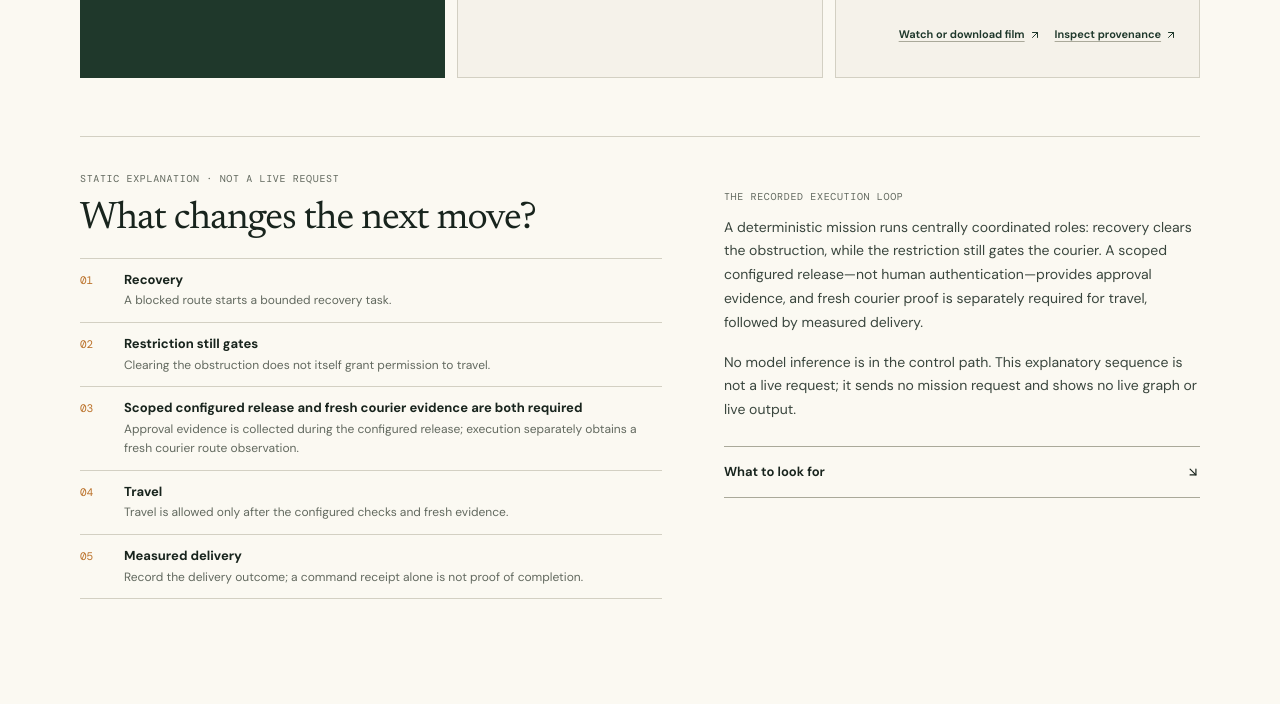
it: JudgeStart proof-first entry point › keeps the inspection walk-through a native disclosure without fetching or mutating
(page scrolled)
Expected: the text "What to look for" is shown, [724,446,1200,498]
Click the heading "What to look for" at (774, 471), box [724,463,1200,480]
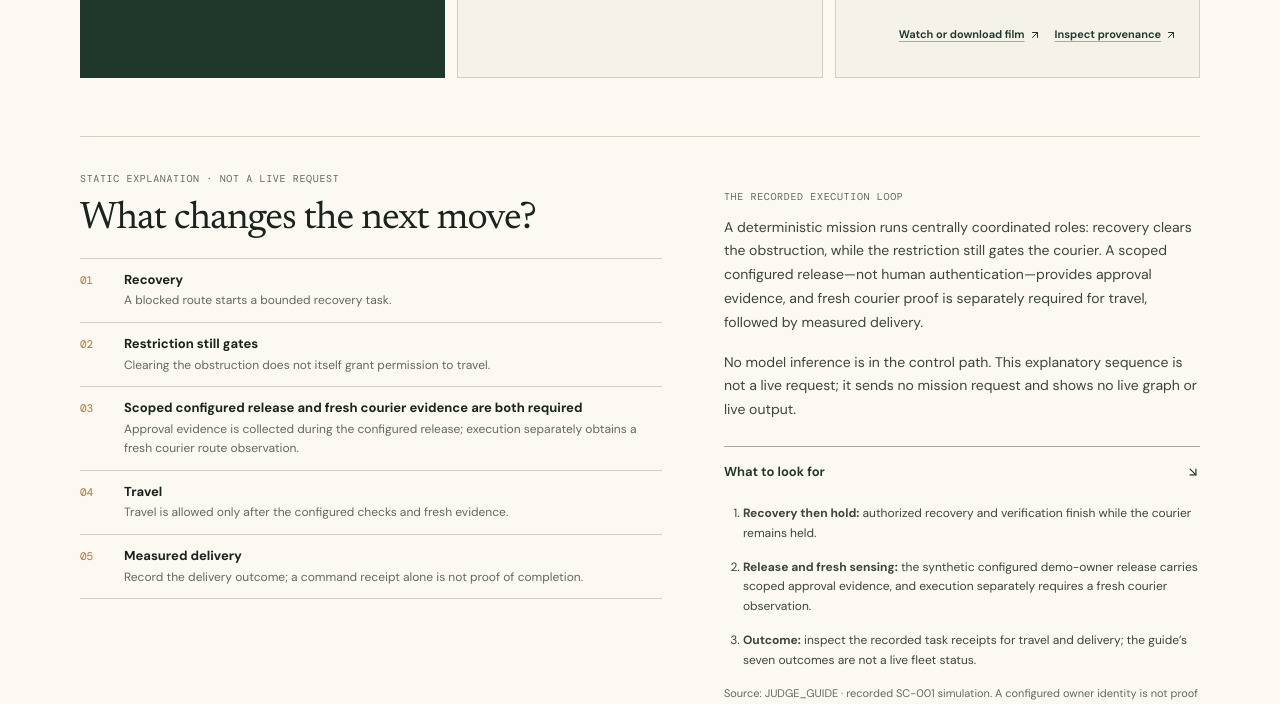
Expected: the list item "configured demo-owner release" is shown, [743,559,1198,614]
